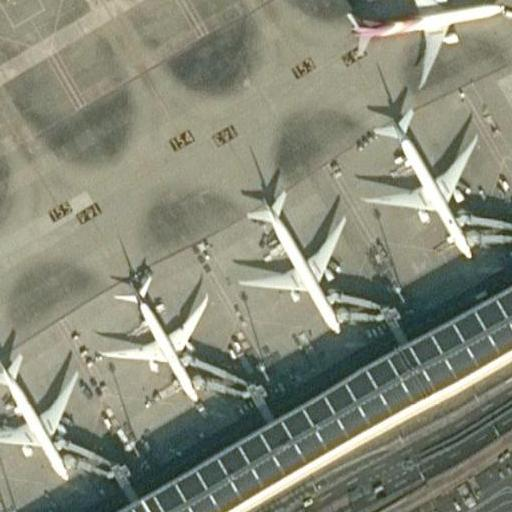Aircraft: (355, 100, 487, 260), (229, 191, 352, 334), (103, 273, 211, 407), (333, 0, 512, 78), (0, 351, 81, 481)
